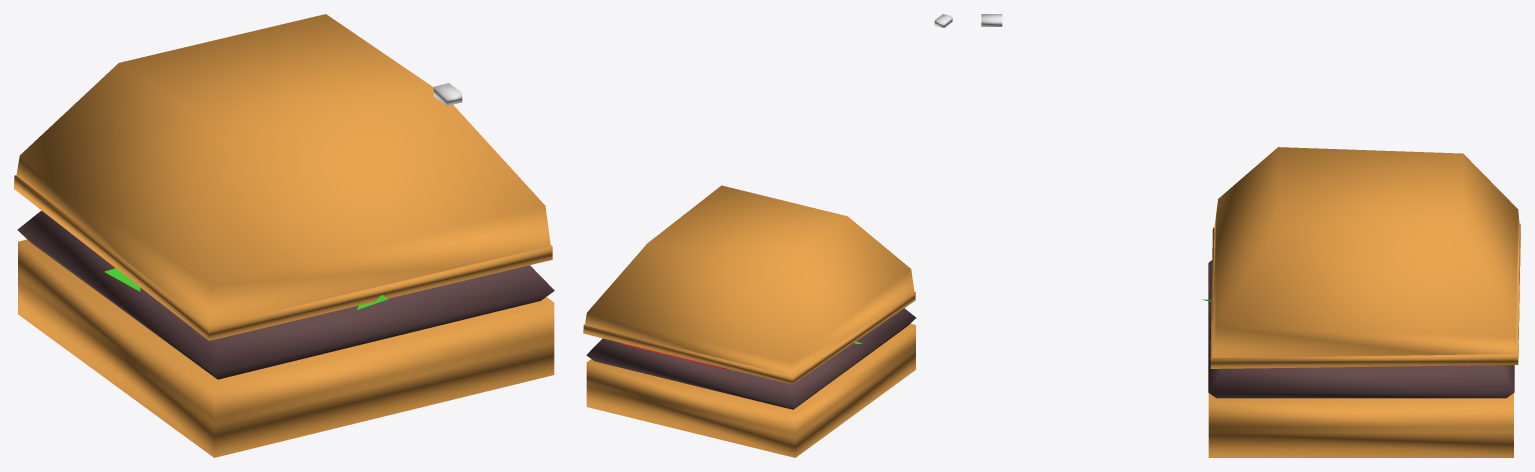
Rendered from Hamburguesa blender.glb.
3 renders of one model, left to right at view 1: azimuth 30°, elevation 25°; view 2: azimuth 150°, elevation 25°; view 3: azimuth 270°, elevation 25°, orthographic. The views are drawn at different scales.
Visible parts, largest first — view 1: Pan de arriba, pan de abjo, Carne; view 2: Pan de arriba, pan de abjo, Carne; view 3: Pan de arriba, pan de abjo, Carne.
Part boxes in pixels (left/top/right/bottom): Pan de arriba: left=14, top=14, right=552, bottom=340; pan de abjo: left=18, top=239, right=554, bottom=457; Carne: left=17, top=210, right=554, bottom=379; Pan de arriba: left=583, top=185, right=915, bottom=384; pan de abjo: left=586, top=324, right=915, bottom=457; Carne: left=586, top=308, right=916, bottom=409; Pan de arriba: left=1210, top=147, right=1520, bottom=368; pan de abjo: left=1208, top=393, right=1513, bottom=457; Carne: left=1208, top=260, right=1514, bottom=398.
Size of the model in its own units: 2.09 by 2.51 by 3.53.
